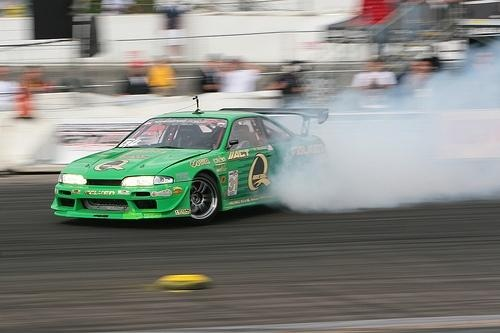car: (49, 99, 337, 231)
